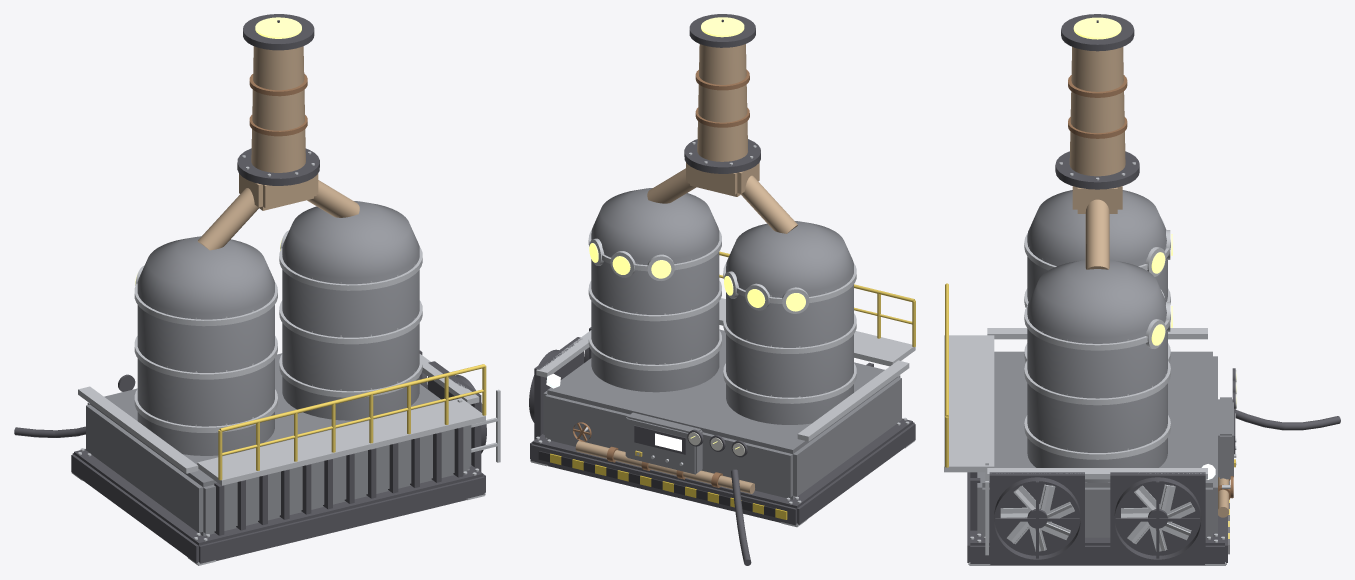
The model's file is heater_3.fbx.
3 views of the same model, side by side, from view 1: azimuth 30°, elevation 25°; view 2: azimuth 150°, elevation 25°; view 3: azimuth 270°, elevation 25° (orthographic). The views are drawn at different scales.
Visible parts, largest first — view 1: heater_3; view 2: heater_3; view 3: heater_3, Spin_X_Fan1, Spin_X_Fan0.
Boxes of the visible parts, x1,y1,x2,y2 form: heater_3: [14, 14, 500, 565]; heater_3: [529, 14, 915, 565]; heater_3: [944, 14, 1340, 565]; Spin_X_Fan1: [1121, 484, 1195, 551]; Spin_X_Fan0: [1000, 484, 1074, 551].
Bounding box in the file's own units: 3.69 × 5.22 × 3.95.
